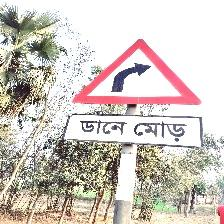Right-turn: (68, 39, 206, 149)
